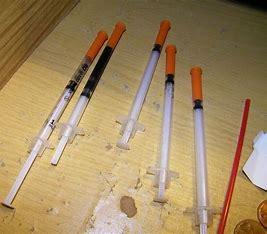Syringe: (1, 17, 130, 212), (146, 40, 182, 211), (188, 62, 220, 234)
